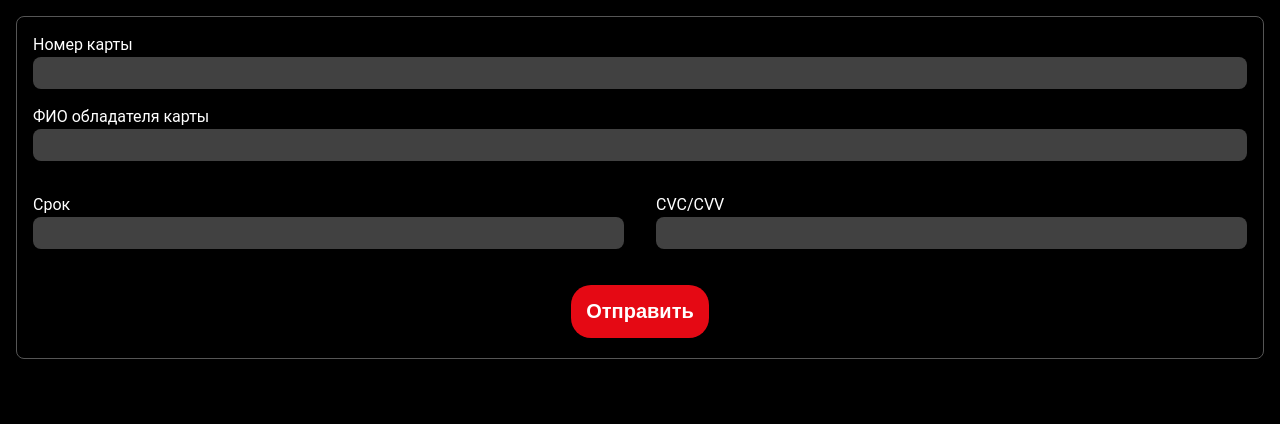
Test: BankCardForm › shows error message on failed submission
Type "1234567812345678" into the field labelled "Номер карты" at (640, 73), box [33,57,1247,89]
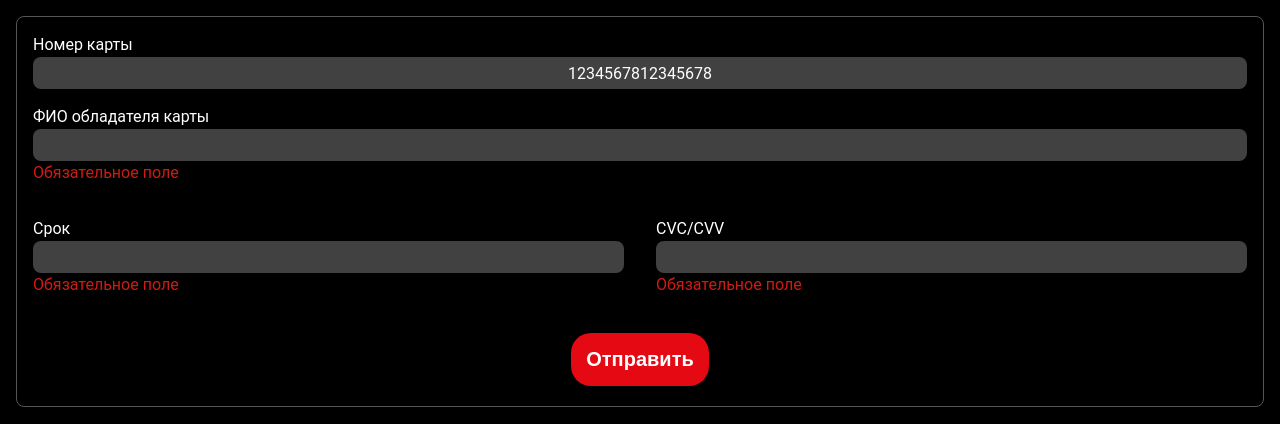
Type "Иванов Иван" into the field labelled "ФИО обладателя карты" at (640, 145), box [33,129,1247,161]
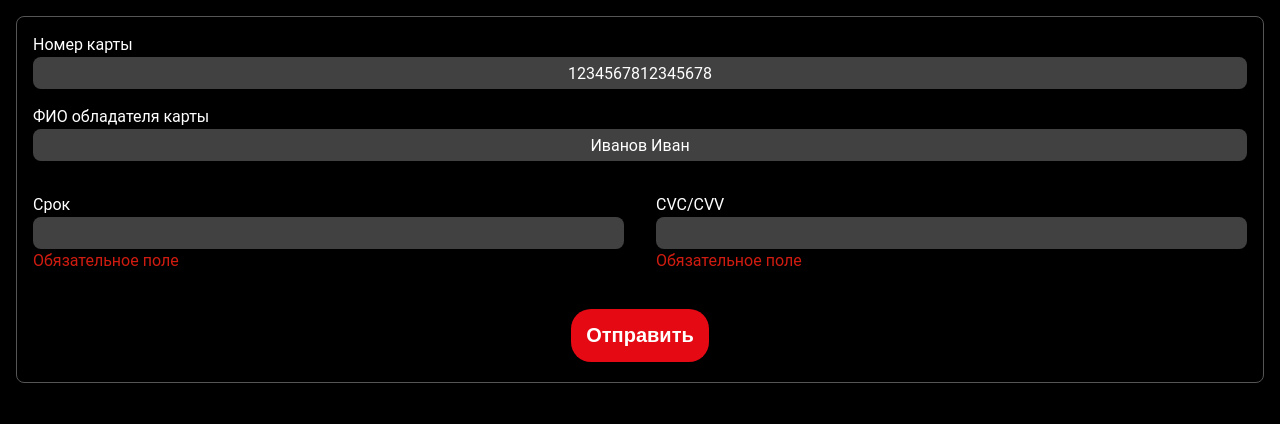
Type "12/12" into the field labelled "Срок" at (328, 233), box [33,217,624,249]
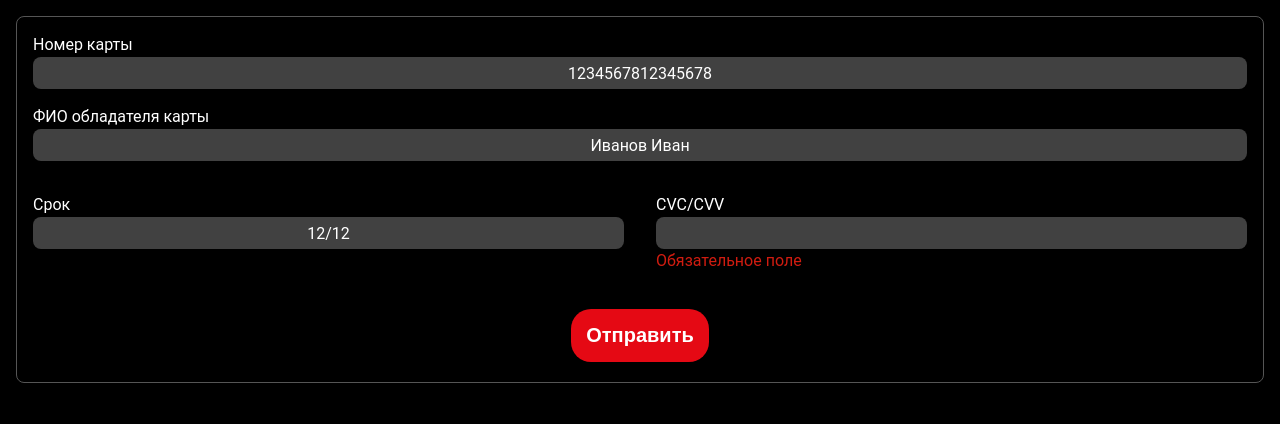
Type "123" into the field labelled "CVC/CVV" at (952, 233), box [656,217,1247,249]
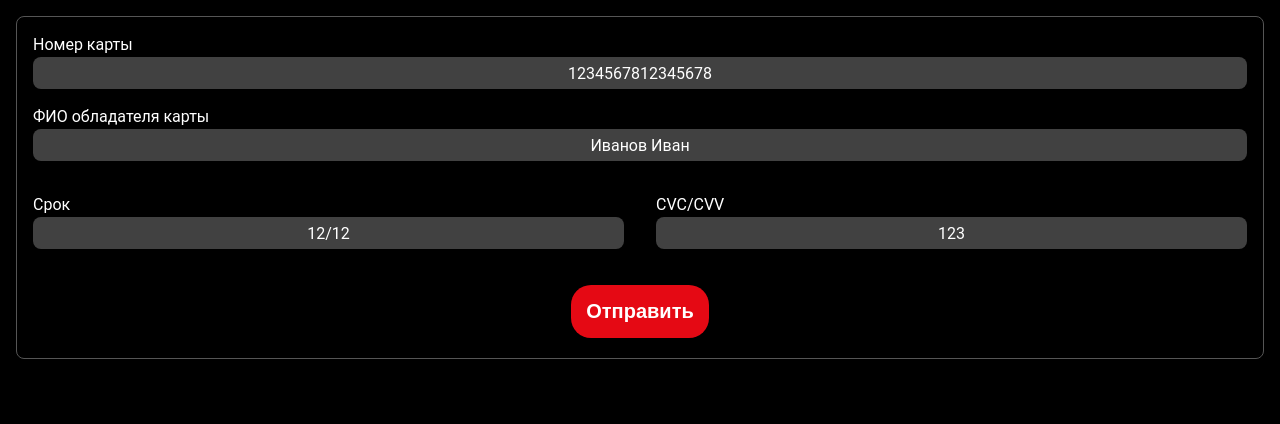
Click the button "Отправить" at (640, 312), box [571,285,709,338]
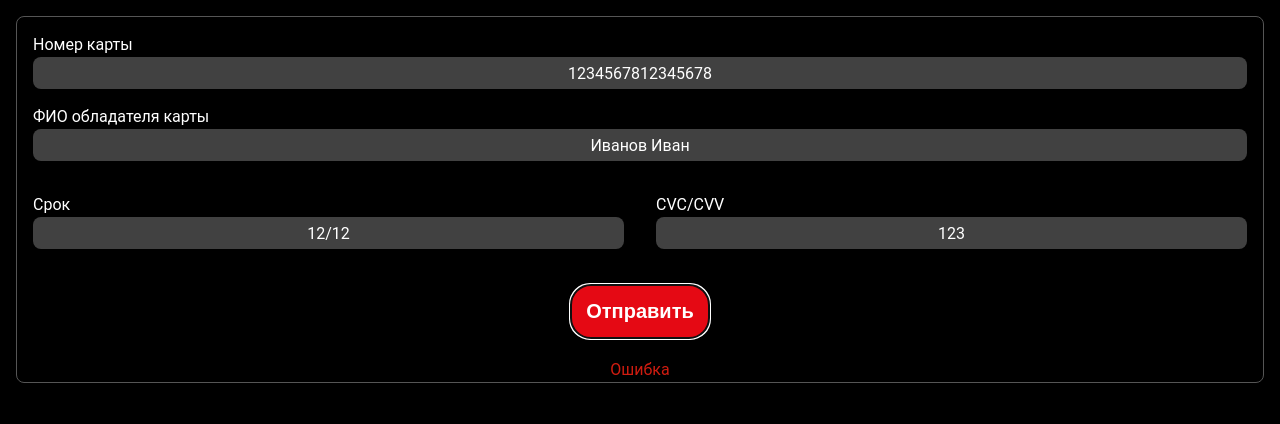
Result: the text "Ошибка" is shown at [610,360,670,379]
